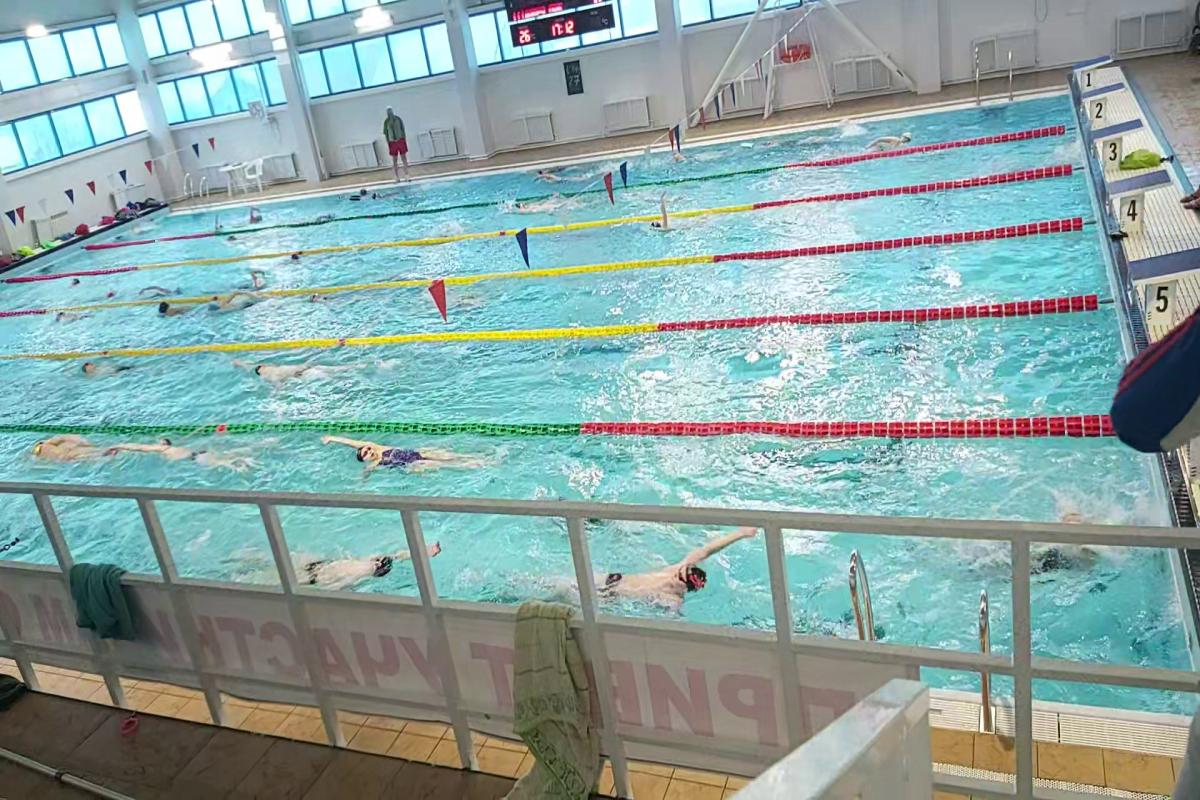swimmer: (597, 530, 760, 613), (967, 510, 1094, 588), (325, 431, 501, 486), (297, 529, 413, 590), (130, 435, 267, 476), (236, 350, 357, 388), (71, 354, 149, 383), (204, 290, 261, 319), (510, 194, 574, 215), (150, 301, 200, 324), (647, 196, 677, 232)
